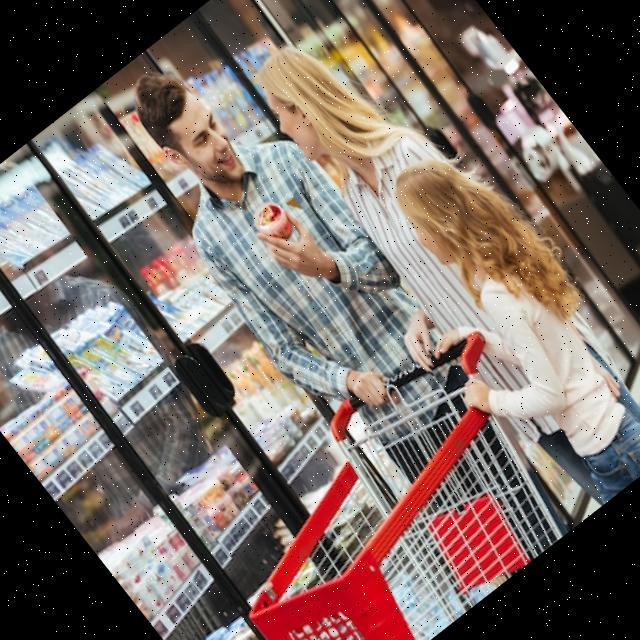Person: (212, 8, 640, 541), (84, 21, 460, 440), (327, 122, 640, 533)
